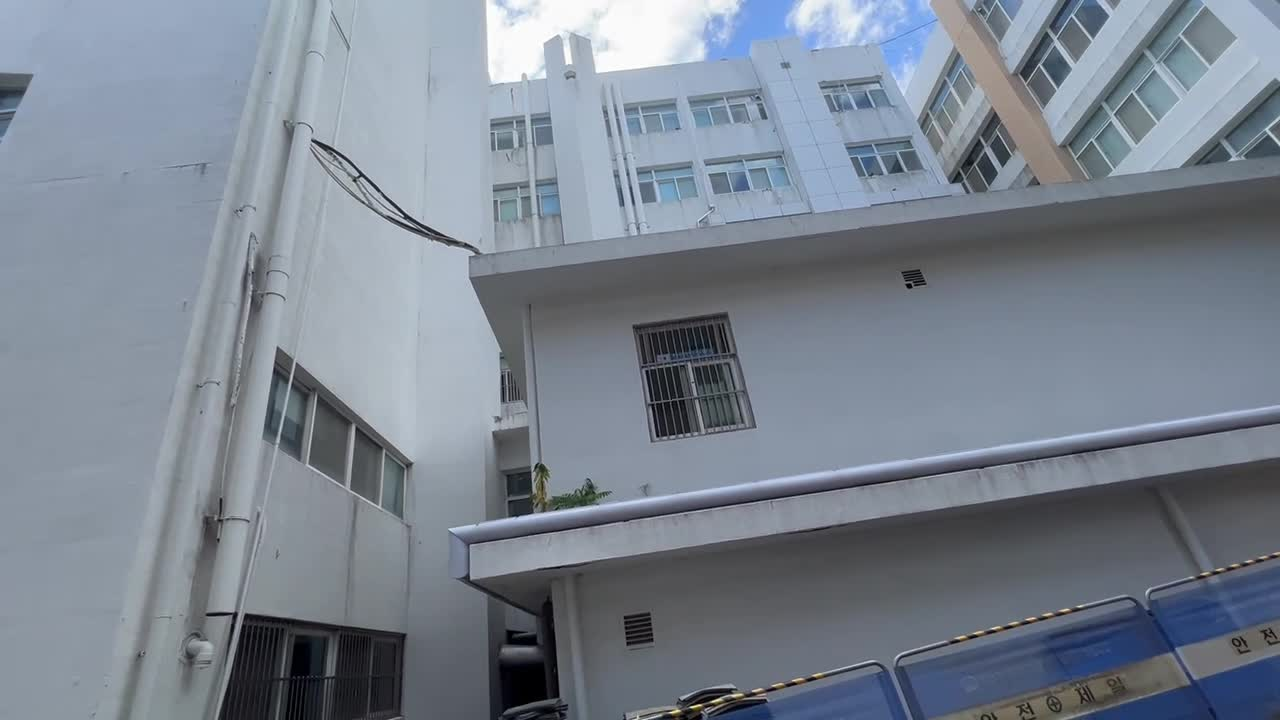high: (0, 0, 1280, 532)
